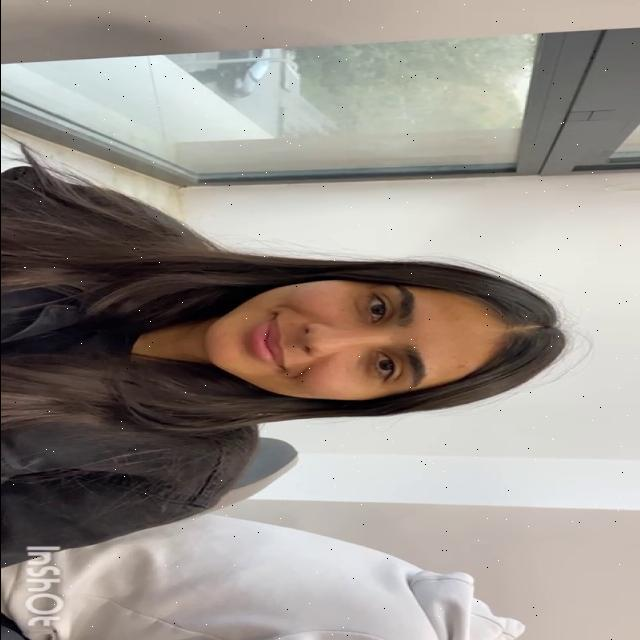happy: (198, 279, 514, 407)
